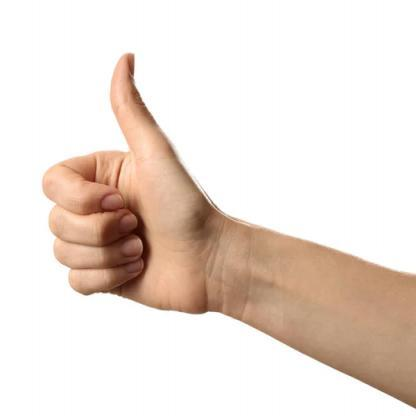thumb_up: (34, 46, 202, 320)
